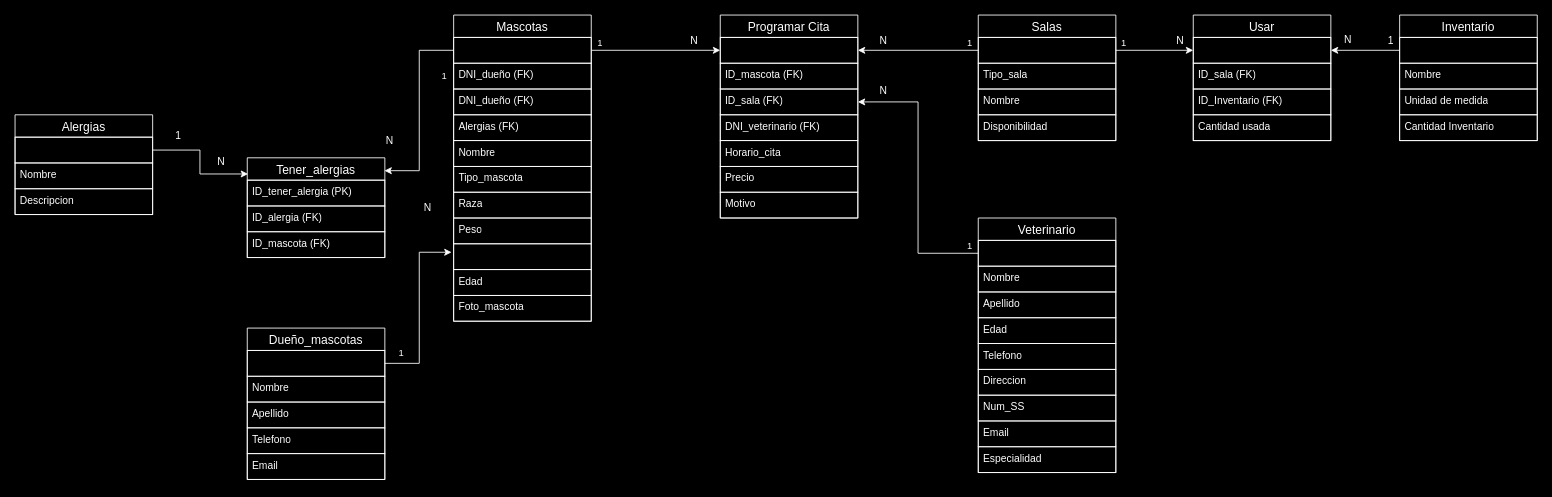
This 1552x497 diagram has some shape labels left out. The shapes that lost their labels are listed below. From the top down, each one's centre as x and y in pixels, then its label:
At (x=522, y=50): "ID_mascota (PK)".
At (x=788, y=50): "ID_cita (PK)".
At (x=1046, y=50): "ID_sala (PK)".
At (x=1261, y=50): "ID (PK)".
At (x=1468, y=50): "ID_Inventario (PK)".
At (x=83, y=149): "ID_alergia (PK)".
At (x=522, y=256): "Sexo".
At (x=1046, y=253): "DNI_veterinario (PK)".
At (x=315, y=363): "DNI_dueño (PK)".
